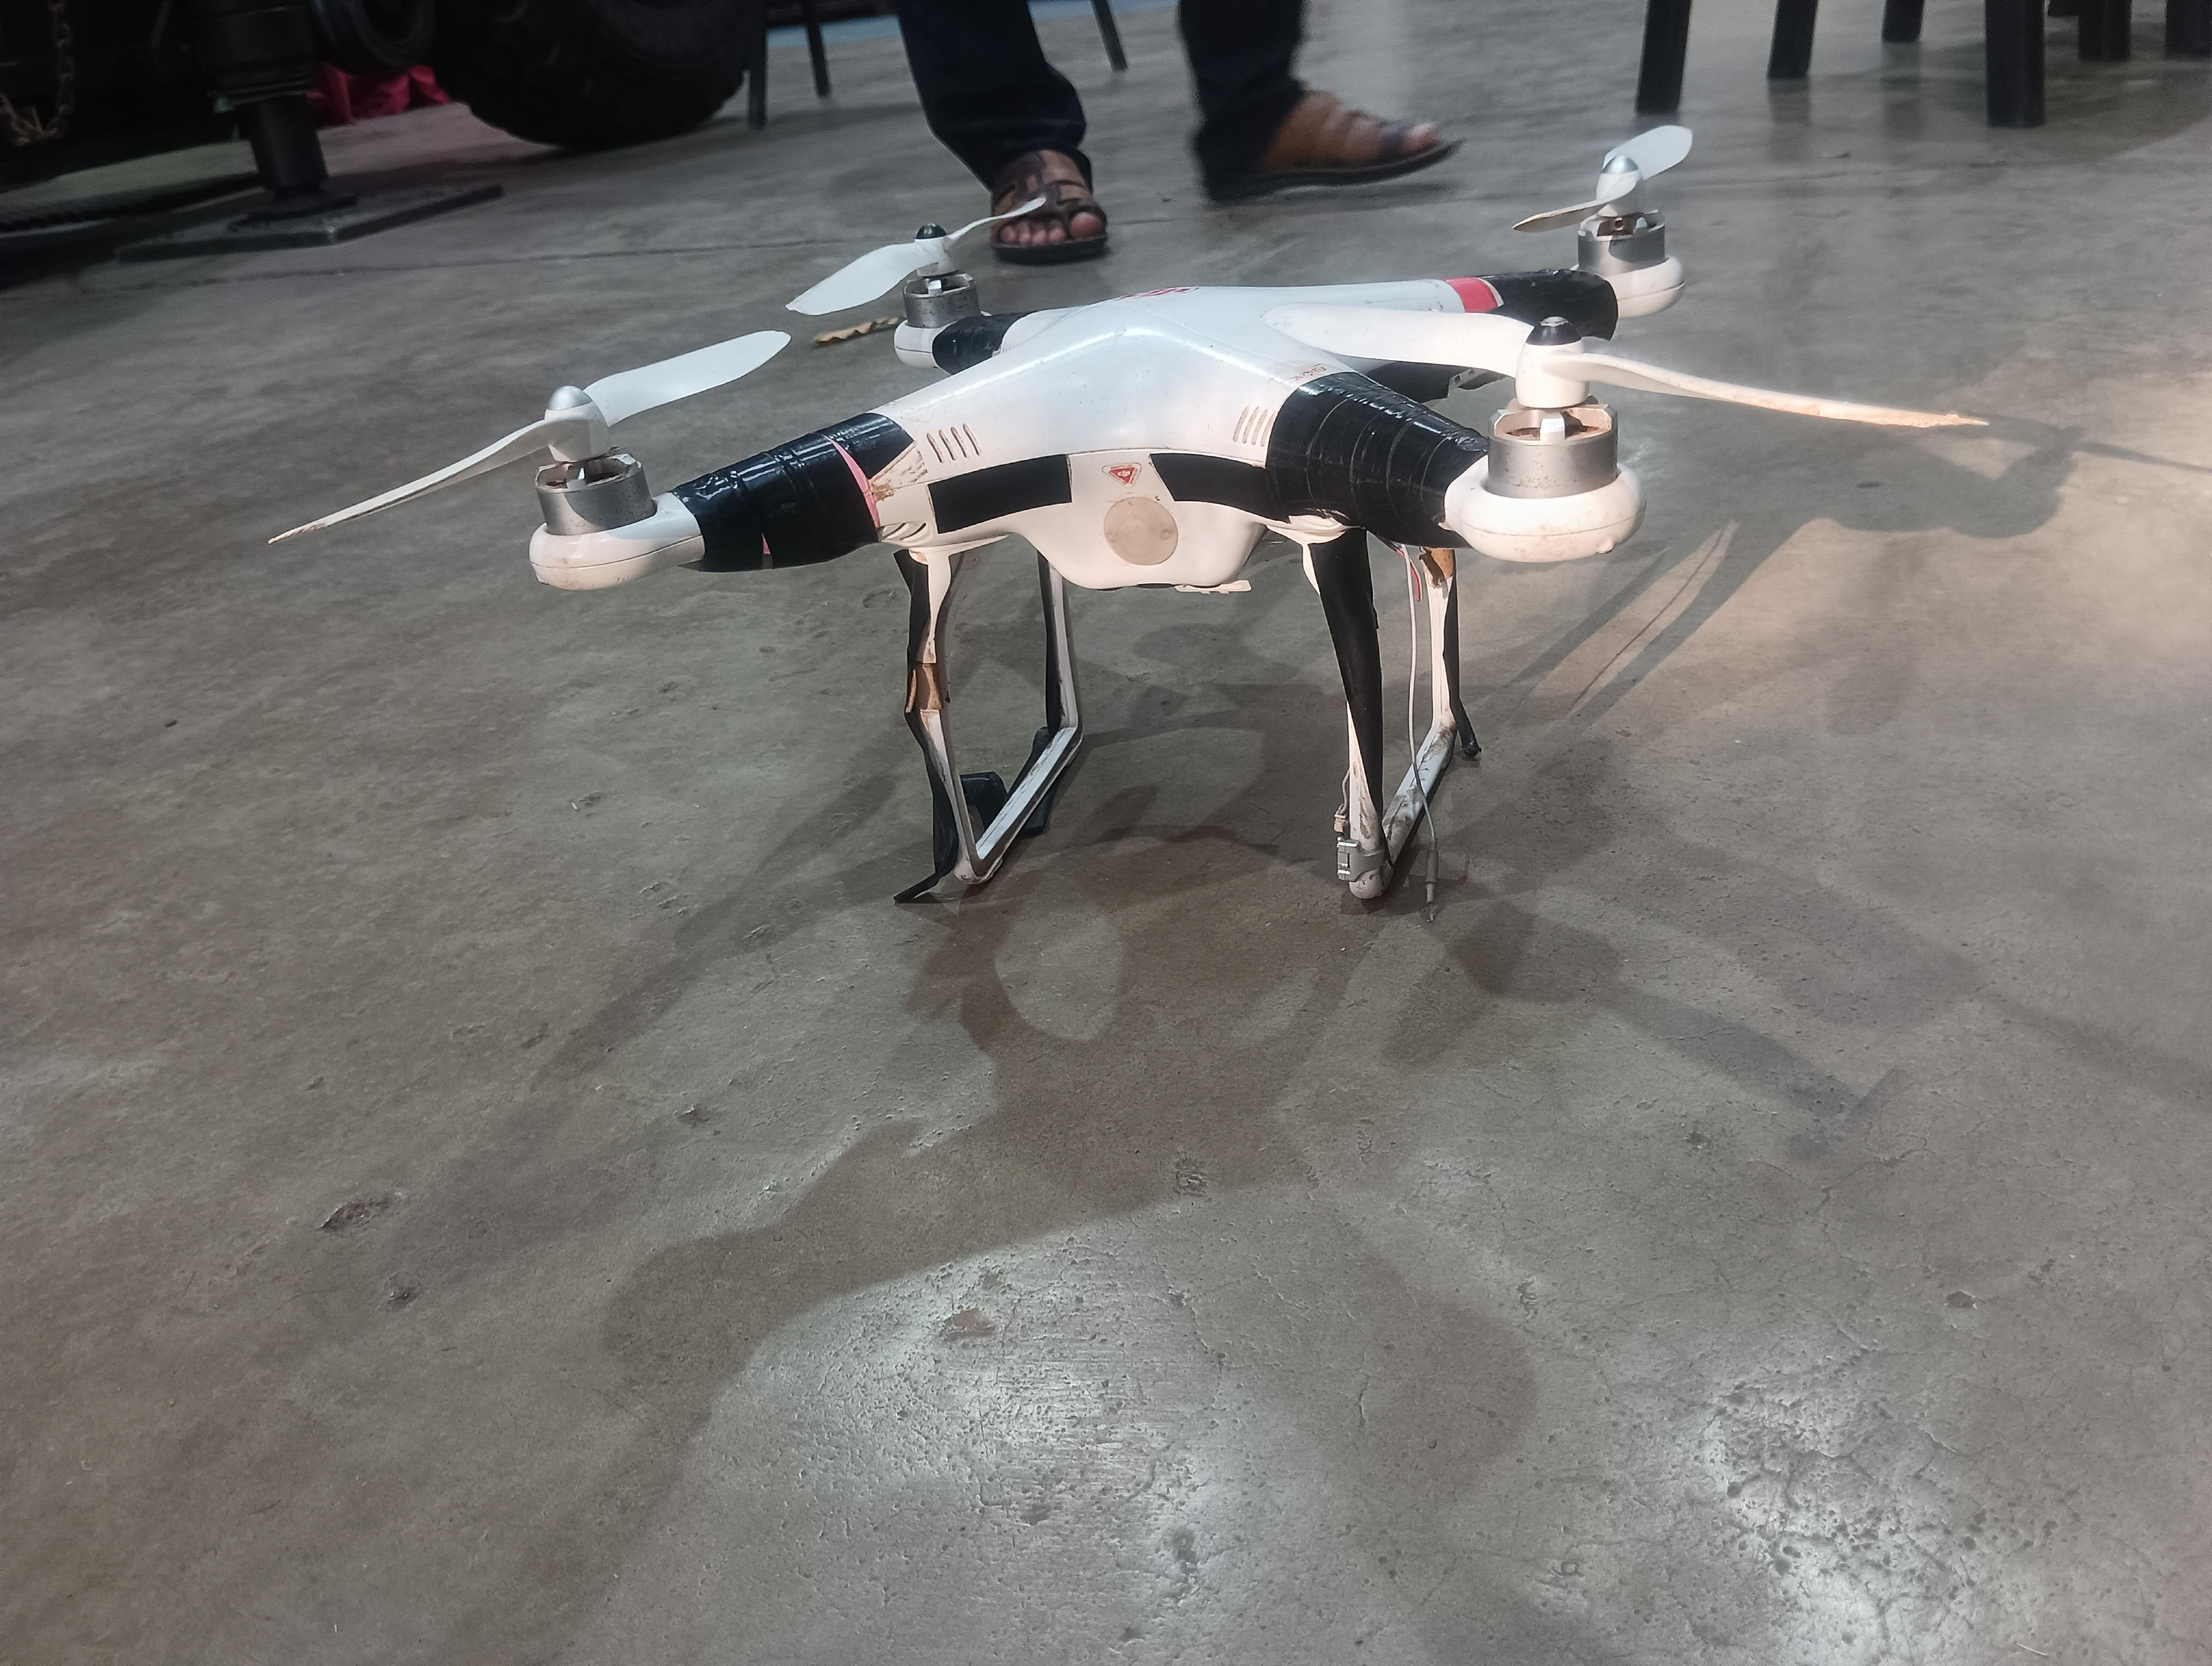drone: (267, 137, 2028, 908)
